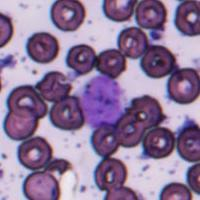L: (78, 73, 125, 130)
